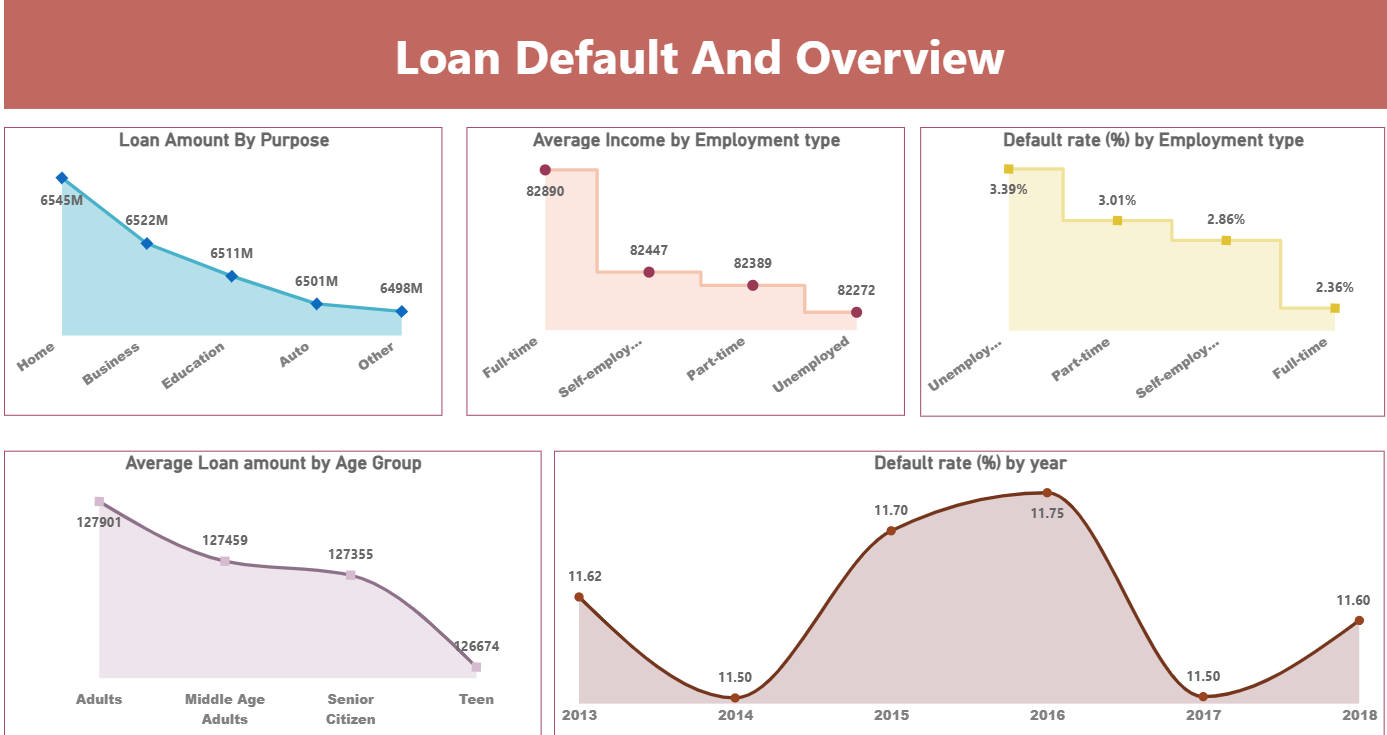

What the dashboard file says about the page in this screenshot:
{"tool":"powerbi","page":{"name":"Loan Default and Overview","canvas":[1280,720],"ordinal":0},"visuals":[{"type":"shape","box":[13.7,9.6,1257,100.2],"z":0},{"type":"lineChart","title":"Loan Amount By Purpose","fields":{"Y":["_Measures.Loan Amount_by Purpose"],"Category":["Loan+Dataset+Link.LoanPurpose"]},"box":[13.5,126.5,396.3,260.8],"z":1000},{"type":"lineChart","title":"Average Income by Employment type","fields":{"Y":["_Measures.AVG incomeByemployment"],"Category":["Loan+Dataset+Link.EmploymentType"]},"box":[431.3,126.5,396.3,260.8],"z":2000},{"type":"lineChart","title":"Default rate (%) by Employment type","fields":{"Y":["_Measures.Default Rate_by Employment type"],"Category":["Loan+Dataset+Link.EmploymentType"]},"box":[840.8,126.2,420.4,261.5],"z":3000},{"type":"lineChart","title":"Average Loan amount by Age Group","fields":{"Category":["Loan+Dataset+Link.AGe_Group"],"Y":["_Measures.Average loan_by Age Group"]},"box":[13.5,418.9,485.5,260.8],"z":4000},{"type":"lineChart","title":"Default rate (%) by year","fields":{"Category":["Calendar Table.Year"],"Y":["_Measures.Default Rate_By Year"]},"box":[510.4,418.9,750.9,260.8],"z":5000}]}

Visuals, with their boxes on the page's 1280x720 design canvas (x1, y1, x2, y2). These are canvas units, not pixel positions in the 1387x735 screenshot, which may show the page scaled, cropped or inside an application window:
shape: (14, 10, 1271, 110)
"Loan Amount By Purpose" lineChart: (14, 126, 410, 387)
"Average Income by Employment type" lineChart: (431, 126, 828, 387)
"Default rate (%) by Employment type" lineChart: (841, 126, 1261, 388)
"Average Loan amount by Age Group" lineChart: (14, 419, 499, 680)
"Default rate (%) by year" lineChart: (510, 419, 1261, 680)
